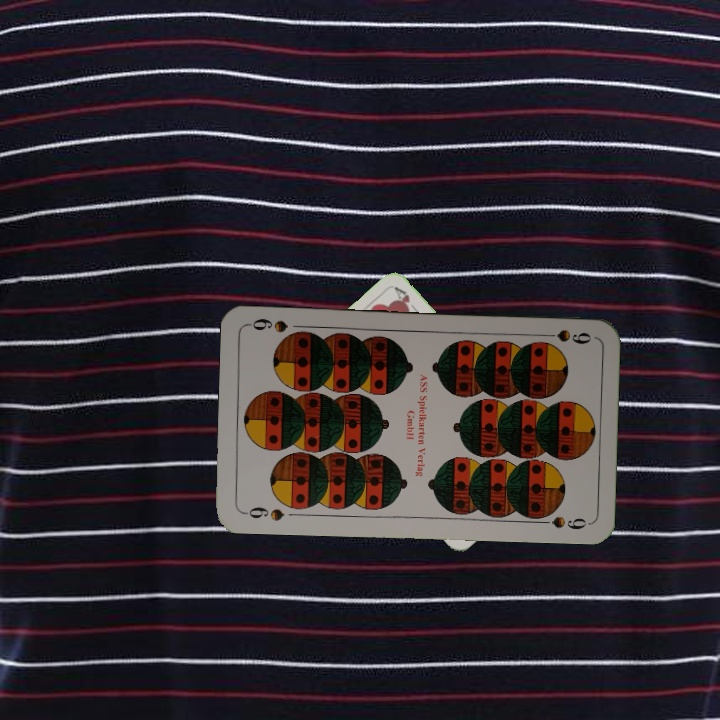S9: (535, 326, 593, 347), (240, 502, 287, 523)
